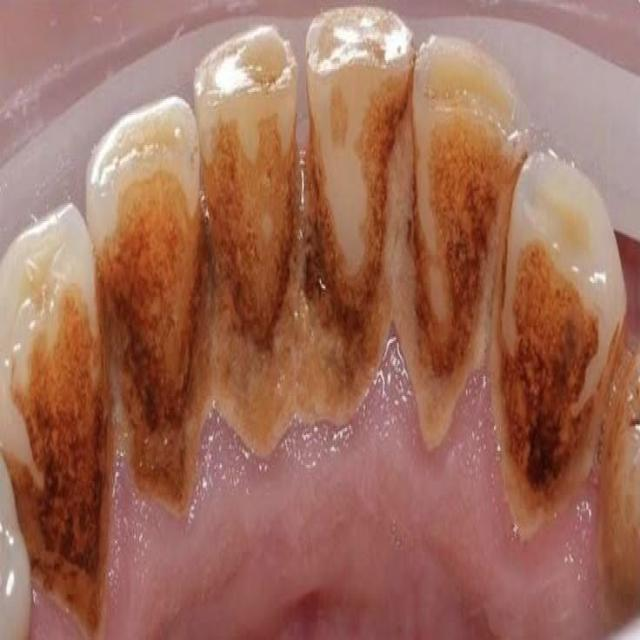calculus: (99, 212, 209, 498), (374, 139, 476, 427), (500, 252, 586, 496), (214, 129, 296, 364)
